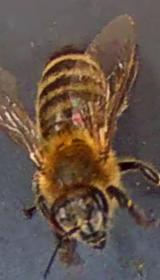varroa_mite: (64, 102, 90, 133)
